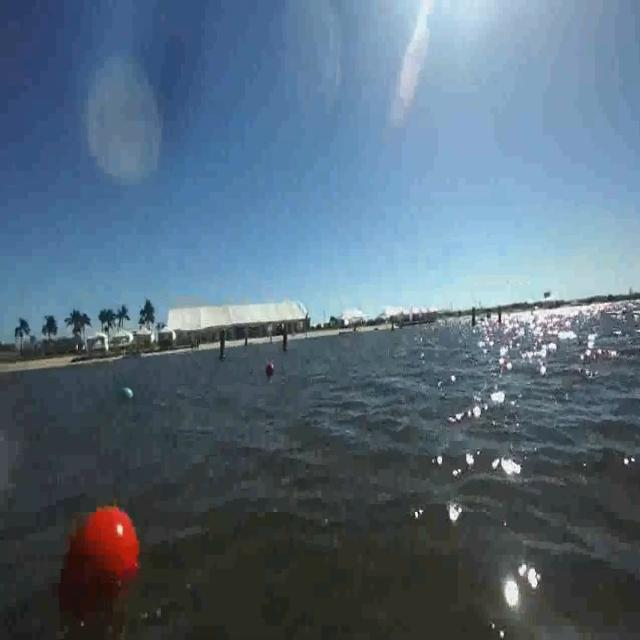green-buoy: (117, 385, 135, 406)
green-column-buoy: (217, 331, 228, 361)
red-buoy: (57, 498, 153, 616), (268, 362, 275, 375)
